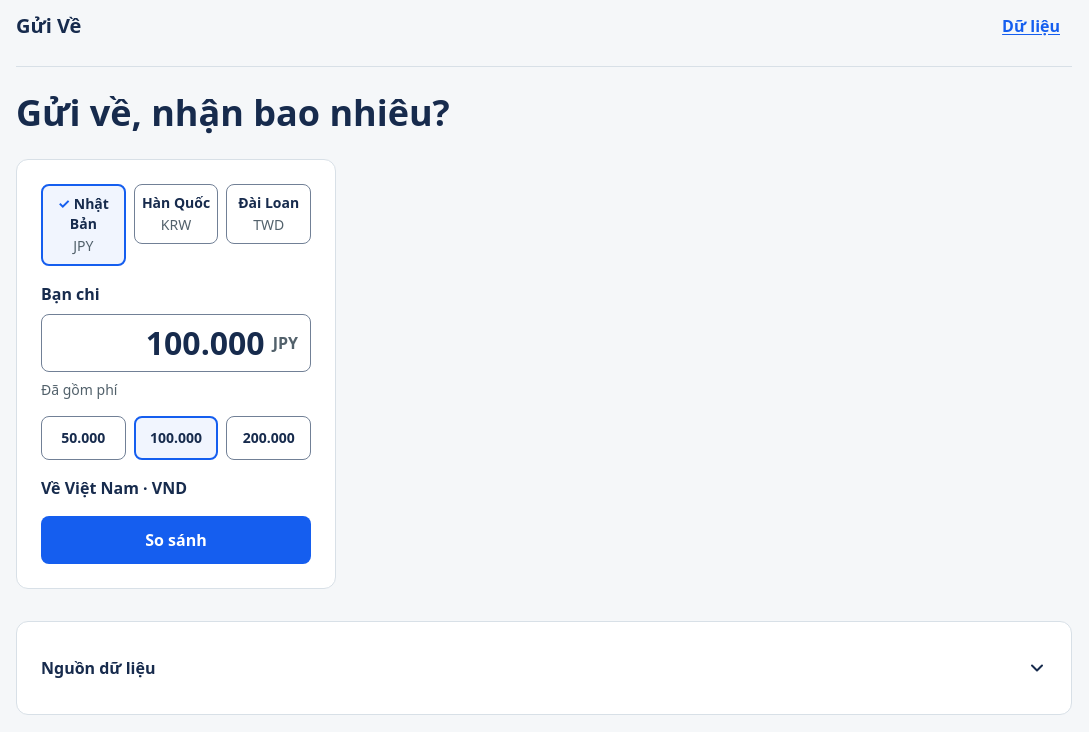
App integration & behavior tests (U01–U10) › U10: discards stale in-flight submit result if user changes country while waiting
The width and height of the screenshot is (1089, 732).
# Submit JPY
Click the button "So sánh" at (176, 540), box top-left (41, 516), bottom-right (311, 564)
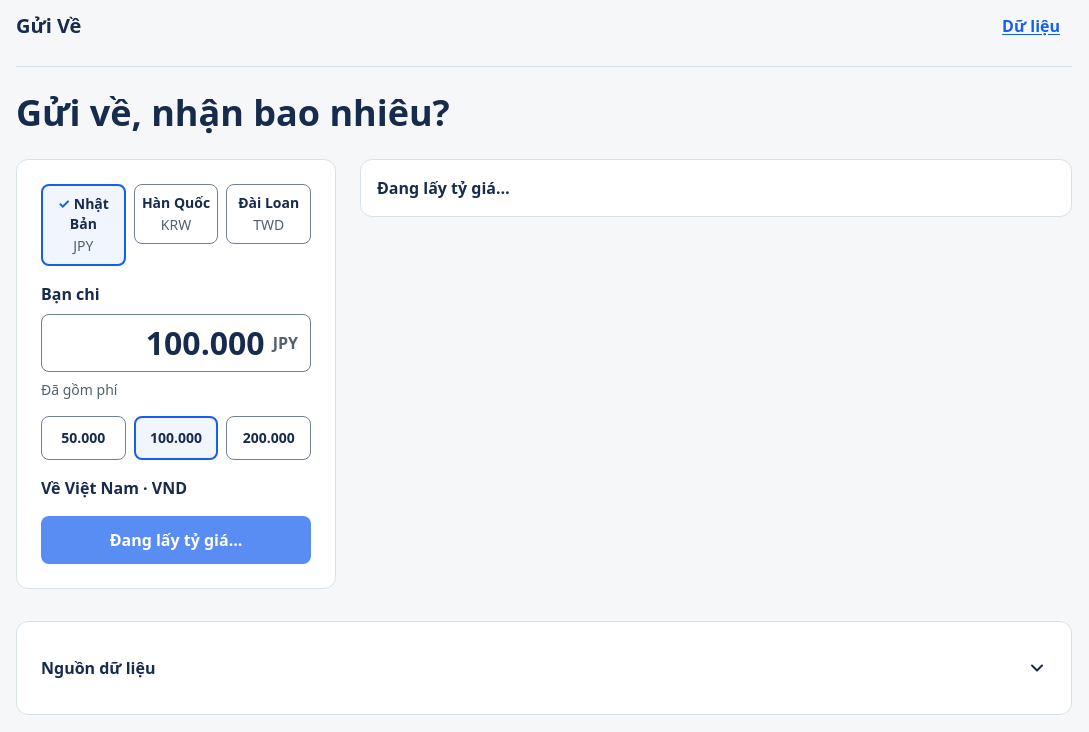
Result: the button "Đang lấy tỷ giá…" is disabled at top-left (41, 516), bottom-right (311, 564)
# Change country to Đài Loan while request is still pending
Click the radio button labelled "Đài Loan TWD" at (269, 214), box top-left (226, 184), bottom-right (311, 244)
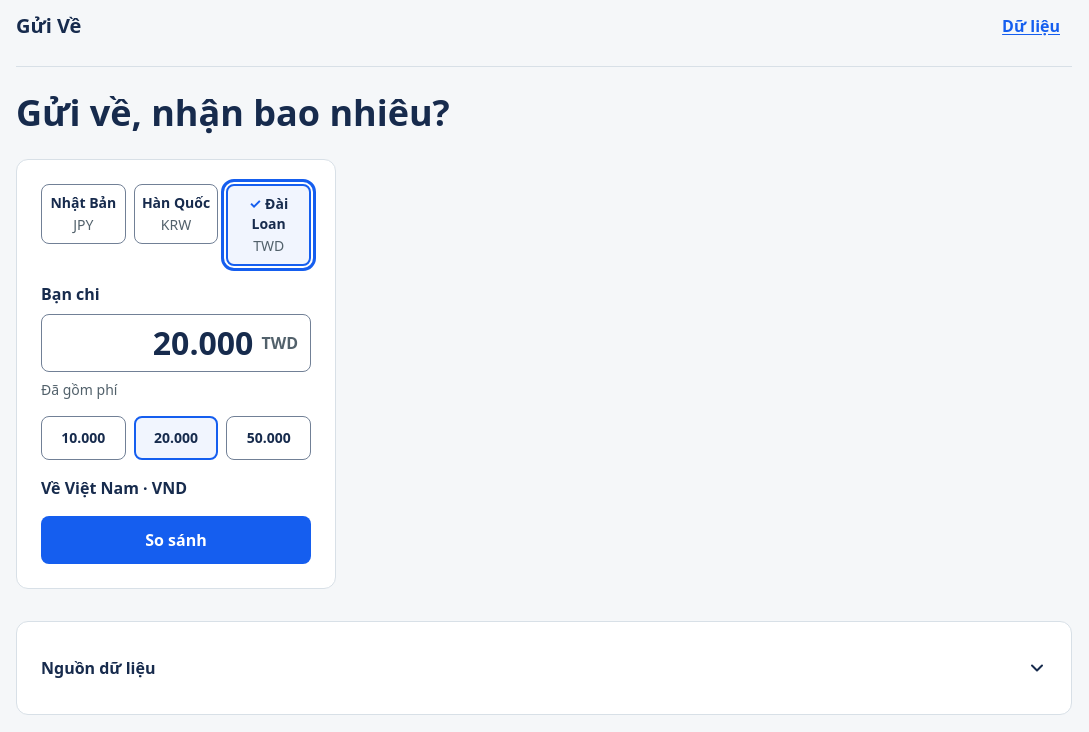
Result: the field labelled "Bạn chi" holds "20.000" at top-left (54, 323), bottom-right (253, 363)
